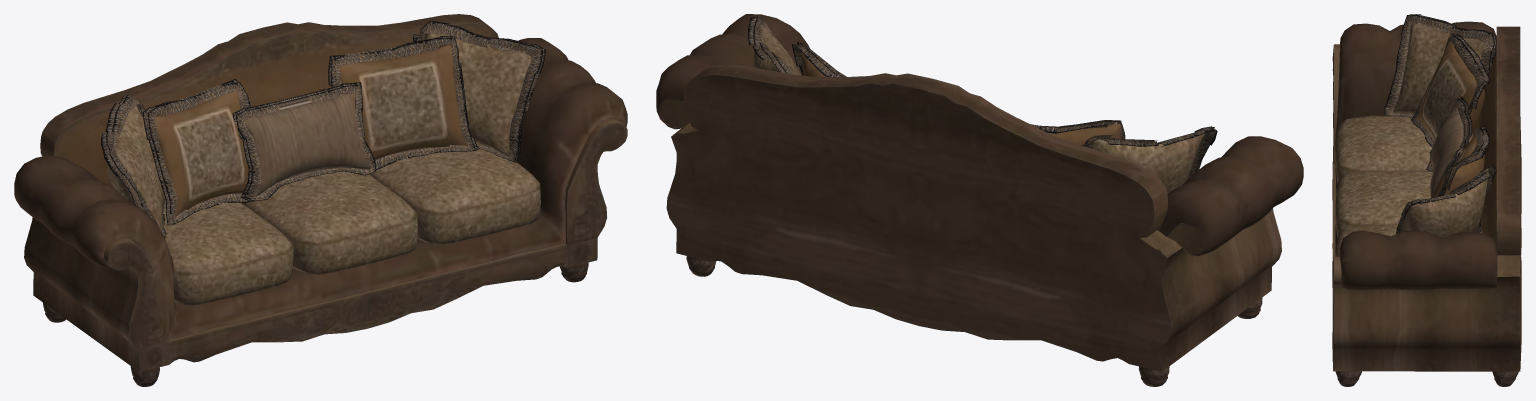
File: sofa_03.glb
3 views of the same model, side by side, from view 1: azimuth 30°, elevation 25°; view 2: azimuth 150°, elevation 25°; view 3: azimuth 270°, elevation 25° (orthographic). The views are drawn at different scales.
Parts seen in each view (by area): view 1: sofa_03; view 2: sofa_03; view 3: sofa_03.
Boxes of the visible parts, x1,y1,x2,y2 form: sofa_03: [14, 14, 627, 386]; sofa_03: [656, 14, 1303, 386]; sofa_03: [1332, 14, 1521, 386].
Bounding box in the file's own units: 2.73 × 1.12 × 0.9251.
2 materials, 2 textured.
